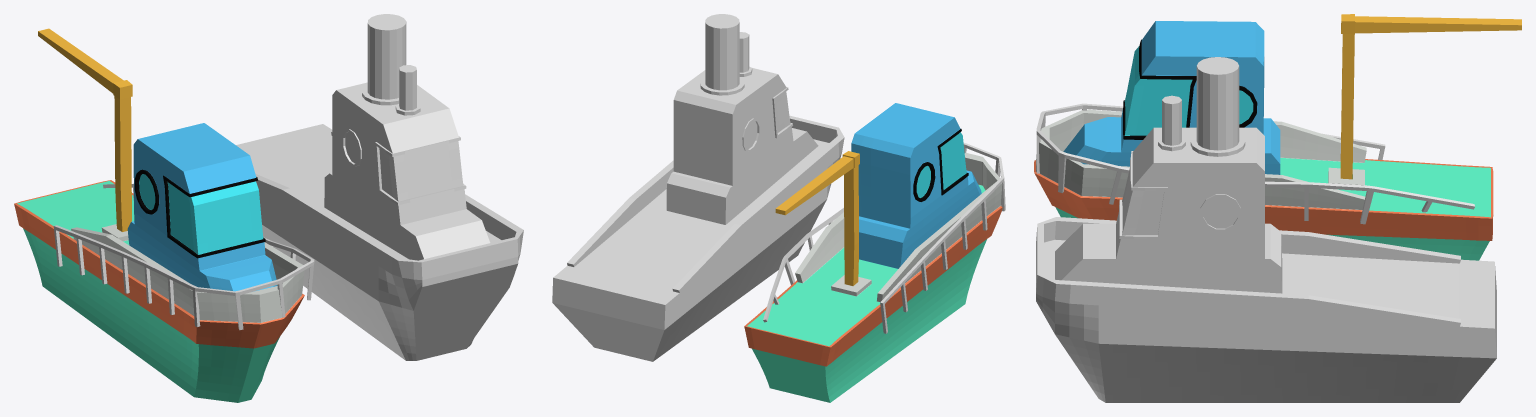
File: Boat(NoUpgrades).fbx
The picture shows the model from 3 angles, left to right: view 1: azimuth 30°, elevation 25°; view 2: azimuth 150°, elevation 25°; view 3: azimuth 270°, elevation 25°; orthographic projection. The views are drawn at different scales.
Visible parts, largest first — view 1: Boat, StarterBoat, StarterBoat(Claw, Cube; view 2: Boat, StarterBoat, StarterBoat(Claw, Cube; view 3: Boat, StarterBoat, StarterBoat(Claw, Cube.
Part boxes in pixels (x1,y1,x2,y2): Boat: [236, 14, 523, 360]; StarterBoat: [14, 28, 304, 402]; StarterBoat(Claw: [15, 28, 304, 402]; Cube: [53, 183, 314, 330]; Boat: [552, 14, 844, 361]; StarterBoat: [744, 103, 1002, 402]; StarterBoat(Claw: [744, 107, 1002, 402]; Cube: [763, 143, 1005, 333]; Boat: [1036, 57, 1496, 402]; StarterBoat: [1034, 14, 1521, 260]; StarterBoat(Claw: [1034, 14, 1521, 260]; Cube: [1036, 103, 1475, 224].
Size of what is drawn, in the model's own units: 965 by 845 by 1168.
